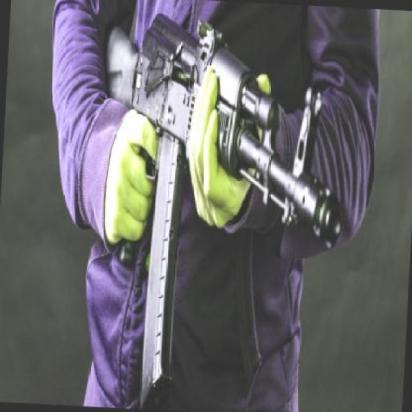Gun: (76, 14, 350, 391)
